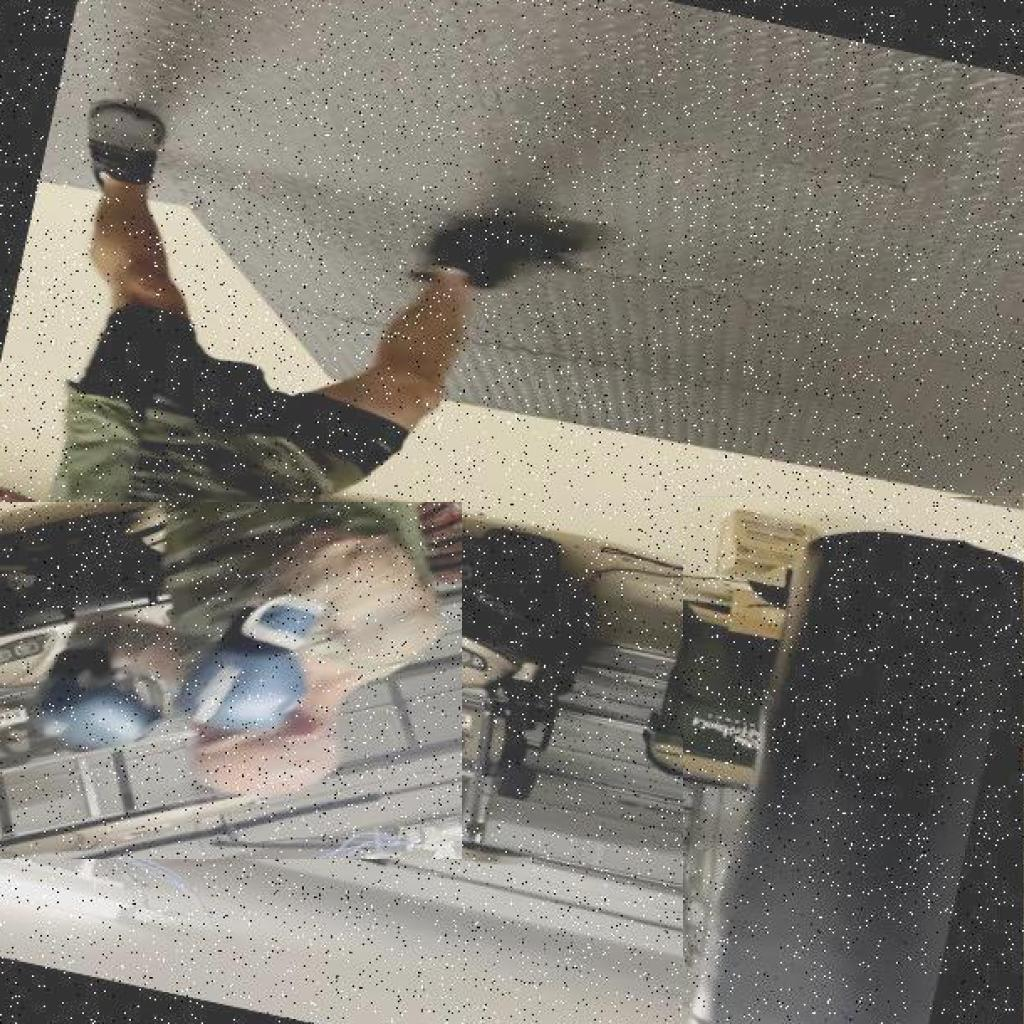bag: (683, 497, 1024, 1024)
no punch: (0, 502, 462, 859)
